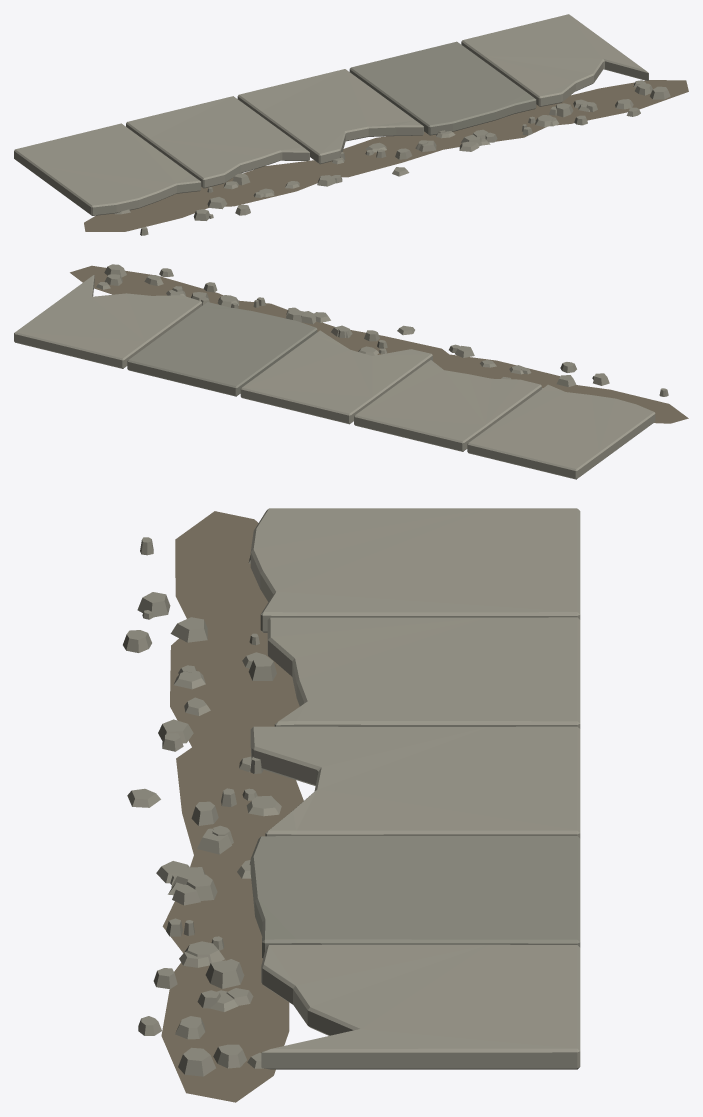
File: BrokenPaving_B.fbx
The picture shows the model from 3 angles, top to bottom: view 1: azimuth 30°, elevation 25°; view 2: azimuth 150°, elevation 25°; view 3: azimuth 270°, elevation 25°; orthographic projection. The views are drawn at different scales.
Parts seen in each view (by area): view 1: BrokenPaving_B; view 2: BrokenPaving_B; view 3: BrokenPaving_B.
Part boxes in pixels (bbox=[...]): BrokenPaving_B: bbox=[14, 14, 688, 235]; BrokenPaving_B: bbox=[14, 264, 688, 479]; BrokenPaving_B: bbox=[123, 508, 580, 1102].
Size of the model in its own units: 390 by 7.1 by 128.
